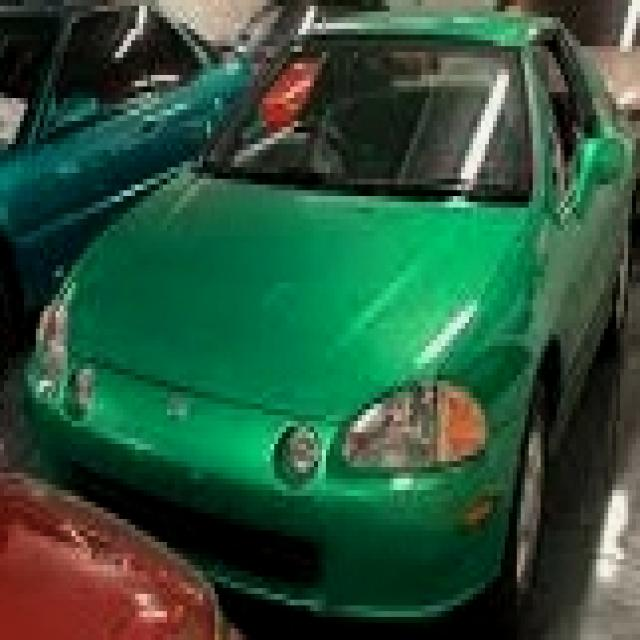green: (0, 3, 634, 640)
